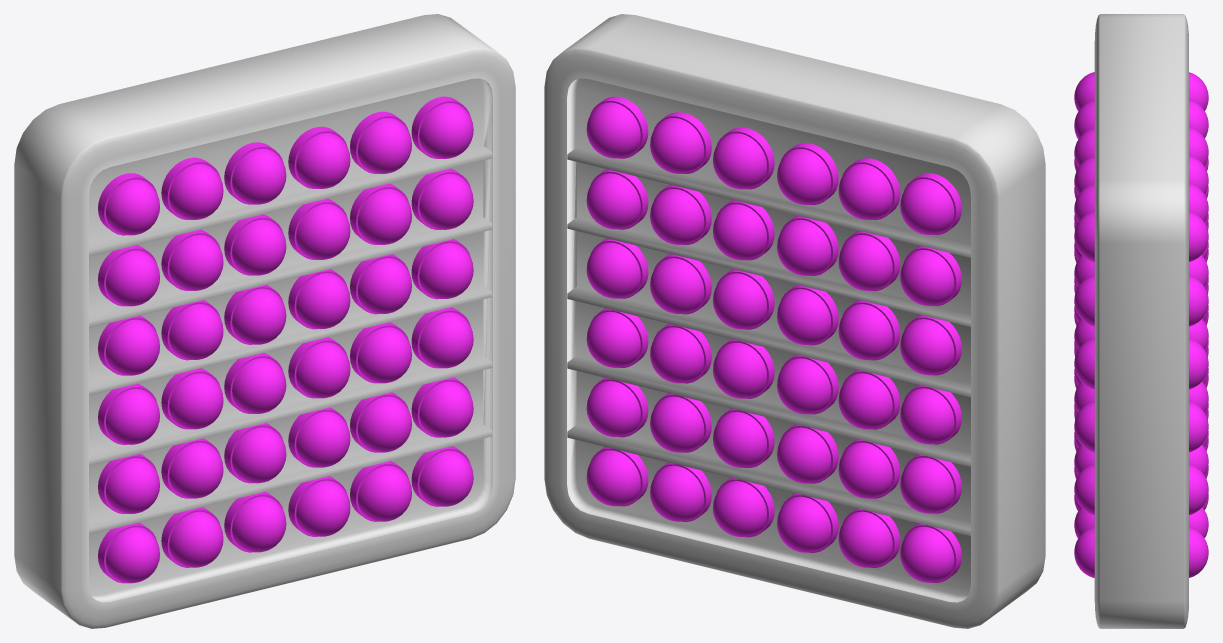
The picture shows the model from 3 angles, left to right: view 1: azimuth 30°, elevation 25°; view 2: azimuth 150°, elevation 25°; view 3: azimuth 270°, elevation 25°; orthographic projection. The views are drawn at different scales.
Visible parts, largest first — view 1: Cube, Sphere.116, Sphere.126, Sphere.118, Sphere.120, Sphere.102, Sphere.110, Sphere.099, Sphere.112, Sphere.114, Sphere.121, Sphere.123 (+31 smaller); view 2: Cube, Sphere.055, Sphere.062, Sphere.084, Sphere.085, Sphere.068, Sphere.078, Sphere.079, Sphere.081, Sphere.069, Sphere.083, Sphere.086 (+31 smaller); view 3: Cube, Sphere.126, Sphere.096, Sphere.114, Sphere.120, Sphere.108, Sphere.102, Sphere.062, Sphere.086, Sphere.074, Sphere.080, Sphere.055 (+21 smaller).
Part boxes in pixels (x1,y1,x2,y2): Cube: (14, 14, 515, 628); Sphere.116: (169, 442, 223, 498); Sphere.126: (419, 450, 473, 506); Sphere.118: (296, 411, 350, 467); Sphere.120: (419, 381, 473, 437); Sphere.102: (419, 173, 473, 229); Sphere.110: (169, 373, 223, 429); Sphere.099: (232, 219, 286, 275); Sphere.112: (296, 342, 350, 398); Sphere.114: (419, 312, 473, 368); Sphere.121: (105, 527, 159, 583); Sphere.123: (232, 496, 286, 552); Cube: (544, 14, 1045, 628); Sphere.055: (586, 102, 640, 158); Sphere.062: (586, 173, 640, 229); Sphere.084: (838, 442, 892, 498); Sphere.085: (900, 457, 954, 513); Sphere.068: (586, 242, 640, 298); Sphere.078: (838, 373, 892, 429); Sphere.079: (900, 388, 954, 444); Sphere.081: (650, 396, 704, 452); Sphere.069: (650, 258, 704, 314); Sphere.083: (777, 427, 831, 483); Sphere.086: (586, 450, 640, 506); Cube: (1094, 14, 1188, 628); Sphere.126: (1074, 527, 1094, 577); Sphere.096: (1074, 211, 1094, 261); Sphere.114: (1074, 401, 1094, 452); Sphere.120: (1074, 464, 1094, 514); Sphere.108: (1074, 338, 1094, 389); Sphere.102: (1074, 275, 1094, 326); Sphere.062: (1189, 275, 1208, 326); Sphere.086: (1189, 527, 1208, 577); Sphere.074: (1189, 401, 1208, 452); Sphere.080: (1189, 464, 1208, 514); Sphere.055: (1189, 211, 1208, 261).
Size of the model in its own units: 20.64 by 21.24 by 5.82.
